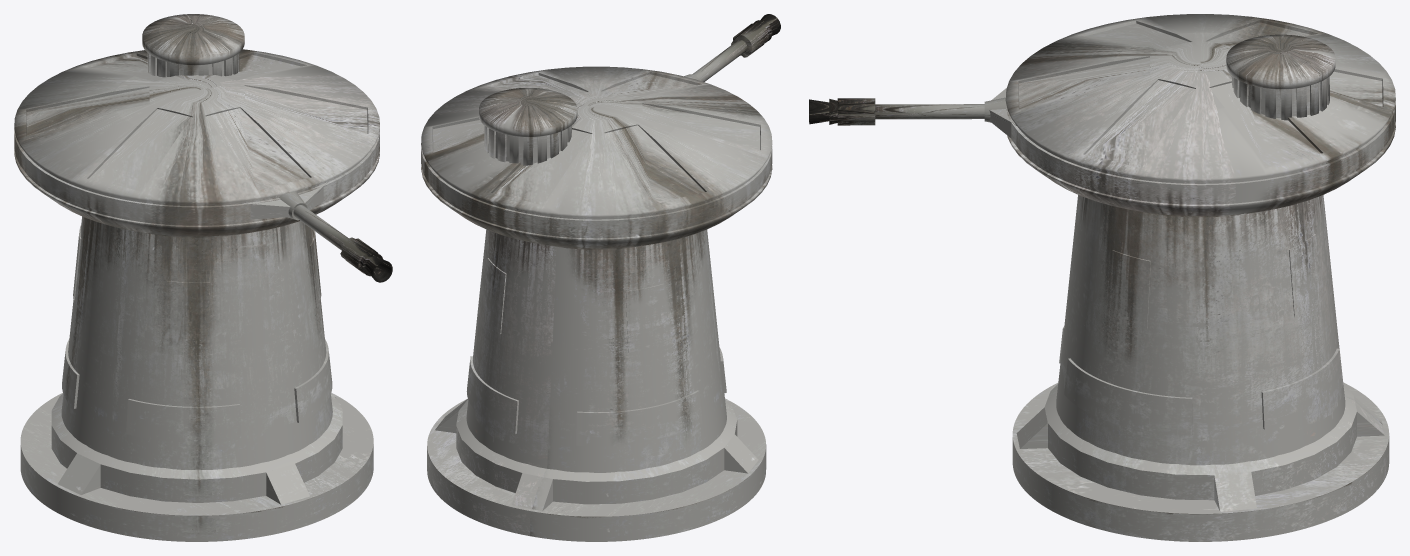
Rendered from HothTurretSettings.FBX.
3 renders of one model, left to right at view 1: azimuth 30°, elevation 25°; view 2: azimuth 150°, elevation 25°; view 3: azimuth 270°, elevation 25°, orthographic. The views are drawn at different scales.
Visible parts, largest first — view 1: Cylinder006, Tube003, Cylinder007, Cylinder009, Cylinder012, Cylinder008, Box011, Cylinder010, Box014, Cylinder011, Tube002, Box009; view 2: Cylinder006, Tube003, Cylinder007, Cylinder009, Cylinder012, Cylinder008, Box012, Box010, Cylinder010, Cylinder011; view 3: Cylinder006, Tube003, Cylinder007, Cylinder009, Cylinder012, Cylinder008, Box009, Cylinder010, Box010, Cylinder011.
Part boxes in pixels (left/top/right/bottom): Cylinder006: left=61, top=216, right=332, bottom=469; Tube003: left=14, top=49, right=379, bottom=236; Cylinder007: left=51, top=393, right=342, bottom=504; Cylinder009: left=20, top=445, right=373, bottom=541; Cylinder012: left=20, top=393, right=373, bottom=517; Cylinder008: left=142, top=14, right=244, bottom=77; Box011: left=166, top=281, right=210, bottom=346; Cylinder010: left=279, top=191, right=348, bottom=250; Box014: left=241, top=181, right=328, bottom=219; Cylinder011: left=340, top=237, right=378, bottom=273; Tube002: left=365, top=256, right=392, bottom=282; Box009: left=310, top=230, right=321, bottom=307; Cylinder006: left=466, top=229, right=726, bottom=472; Tube003: left=421, top=66, right=772, bottom=248; Cylinder007: left=435, top=398, right=758, bottom=511; Cylinder009: left=427, top=446, right=766, bottom=541; Cylinder012: left=427, top=398, right=766, bottom=518; Cylinder008: left=479, top=88, right=577, bottom=165; Box012: left=626, top=283, right=666, bottom=352; Box010: left=482, top=258, right=506, bottom=333; Cylinder010: left=684, top=40, right=747, bottom=81; Cylinder011: left=731, top=22, right=768, bottom=57; Cylinder006: left=1056, top=195, right=1345, bottom=465; Tube003: left=1005, top=14, right=1395, bottom=216; Cylinder007: left=1016, top=383, right=1384, bottom=511; Cylinder009: left=1012, top=438, right=1389, bottom=541; Cylinder012: left=1012, top=382, right=1389, bottom=516; Cylinder008: left=1226, top=34, right=1335, bottom=120; Box009: left=1108, top=250, right=1150, bottom=329; Cylinder010: left=875, top=97, right=1006, bottom=122; Box010: left=1289, top=234, right=1321, bottom=317; Cylinder011: left=837, top=98, right=875, bottom=125.
Size of the model in its own units: 6.95 by 8.54 by 10.45.
Materials: 2 (2 with a texture image).
